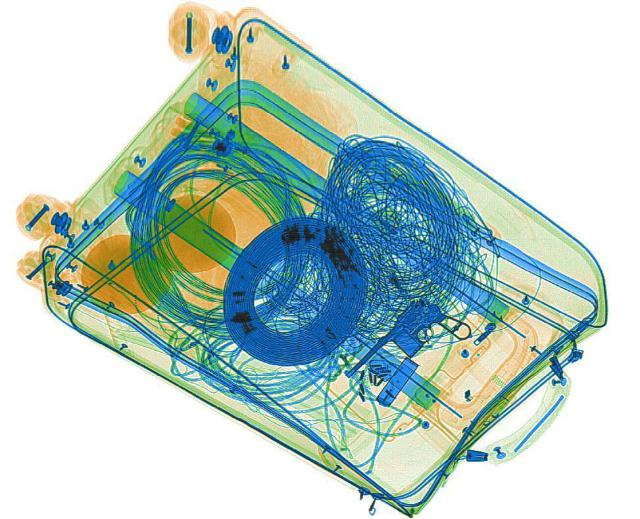Gun: (337, 292, 477, 406)
